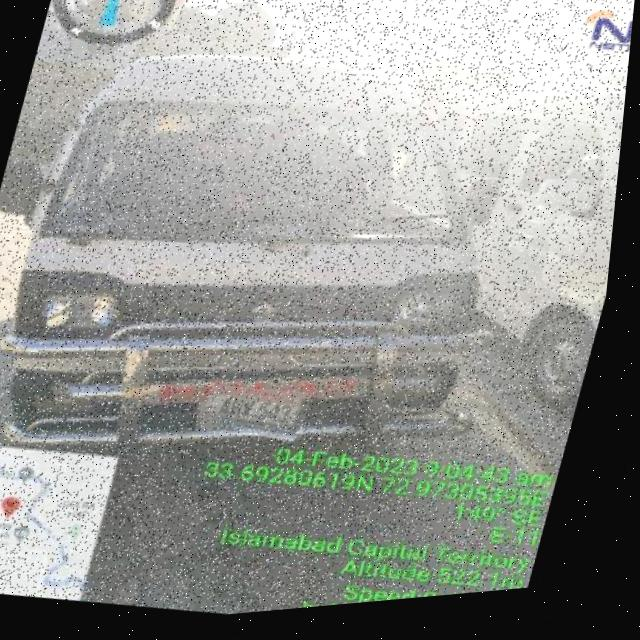LicensePlate: (206, 381, 322, 454)
